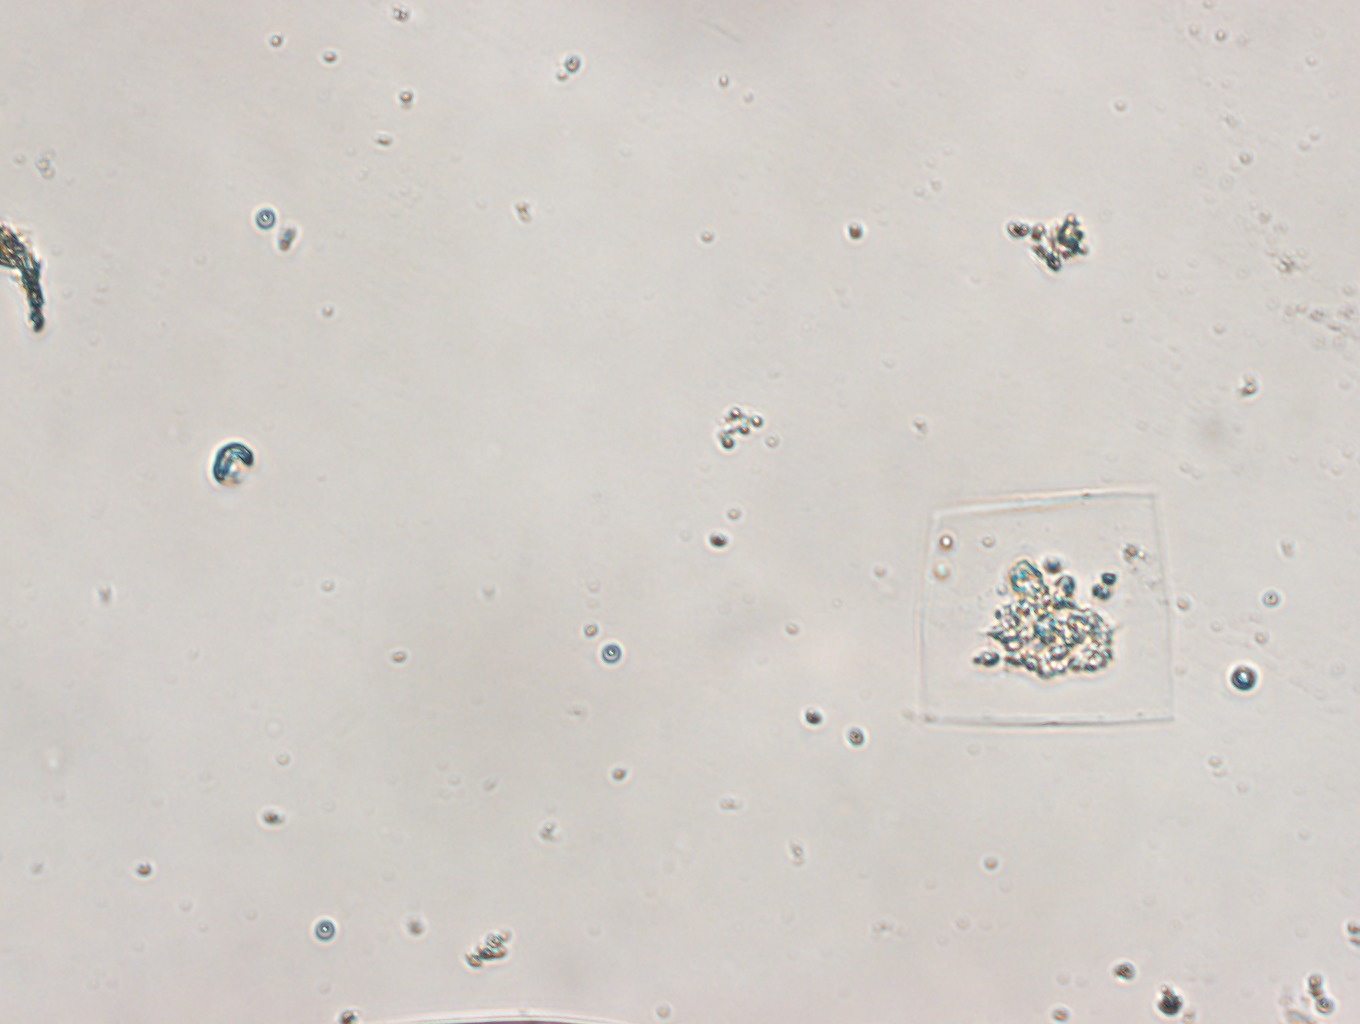helicotheca: (915, 486, 1176, 733)
